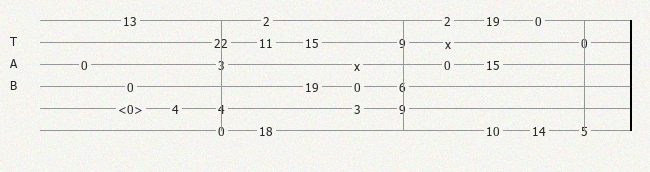0: (81, 58, 92, 71), (127, 80, 138, 93), (218, 124, 229, 137), (354, 80, 365, 93), (444, 58, 455, 71), (535, 14, 546, 27), (581, 36, 592, 49)
10: (486, 124, 504, 137)
11: (259, 36, 277, 49)
13: (123, 14, 141, 27)
14: (532, 124, 550, 137)
15: (305, 36, 323, 49), (486, 58, 504, 71)
18: (259, 124, 277, 137)
19: (305, 80, 323, 93), (486, 14, 504, 27)
2: (263, 14, 274, 27), (444, 14, 455, 27)
22: (214, 36, 232, 49)
3: (218, 58, 229, 71), (354, 102, 365, 115)
4: (172, 102, 183, 115), (218, 102, 229, 115)
5: (581, 124, 592, 137)
6: (399, 80, 410, 93)
9: (399, 36, 410, 49), (399, 102, 410, 115)
harmonic: (118, 102, 147, 115)
x: (354, 59, 364, 70), (445, 37, 455, 48)
